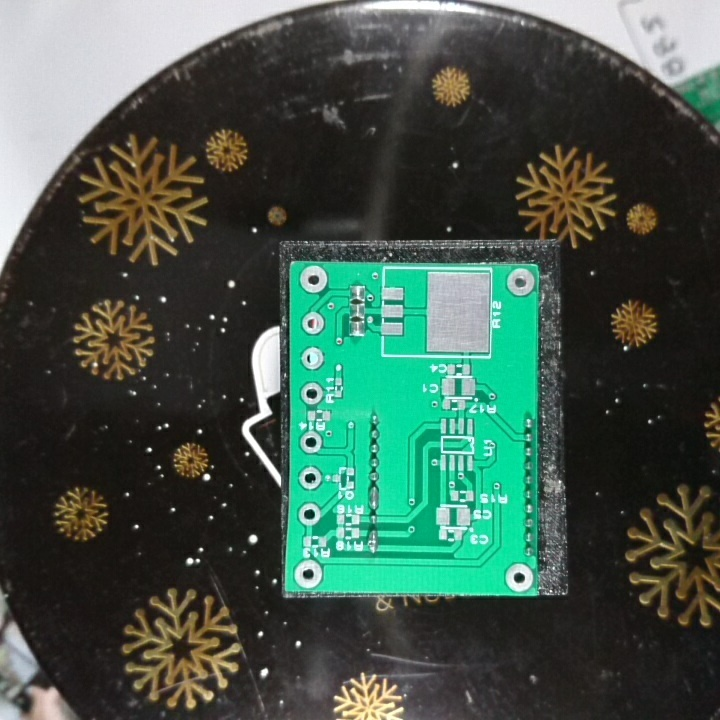F: (298, 263, 328, 298), (293, 555, 325, 587), (505, 266, 535, 298), (505, 561, 531, 591), (299, 310, 326, 337), (297, 464, 323, 492), (299, 345, 325, 372), (299, 380, 325, 407), (297, 499, 322, 526), (299, 429, 322, 456)
P: (364, 483, 382, 512), (365, 526, 381, 555)
